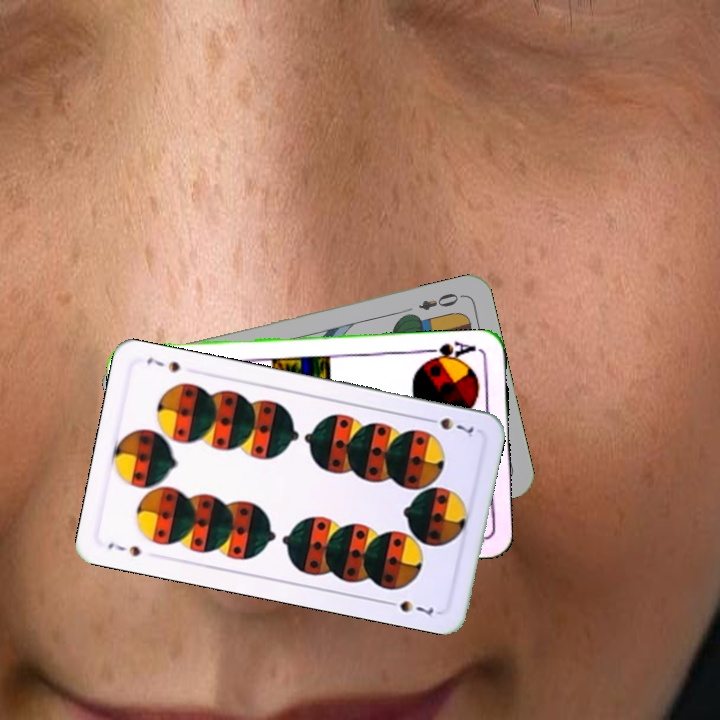EO: (414, 289, 466, 313)
S7: (421, 413, 478, 440), (104, 538, 143, 559)
SA: (421, 337, 479, 365)
